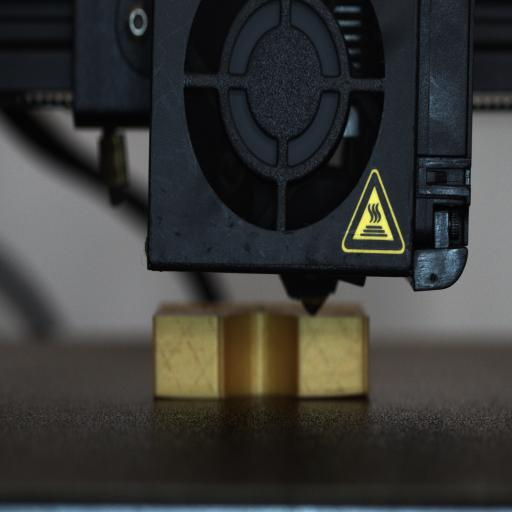warp: (328, 379, 374, 404)
